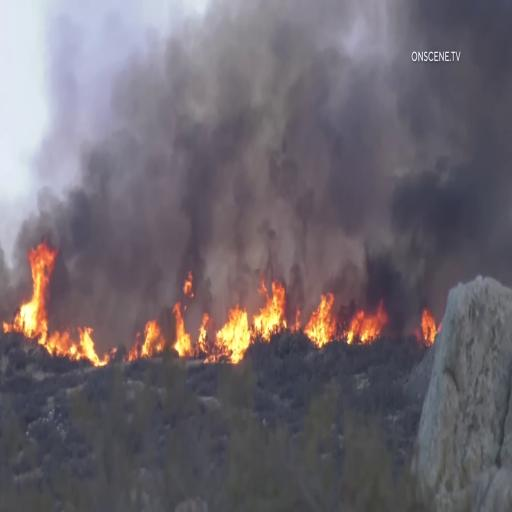fire: (0, 237, 55, 339), (166, 276, 210, 356), (46, 315, 106, 373), (214, 295, 254, 375), (252, 274, 290, 344), (299, 290, 348, 344), (342, 314, 391, 352)
smoke: (383, 130, 512, 266), (158, 0, 222, 271)
